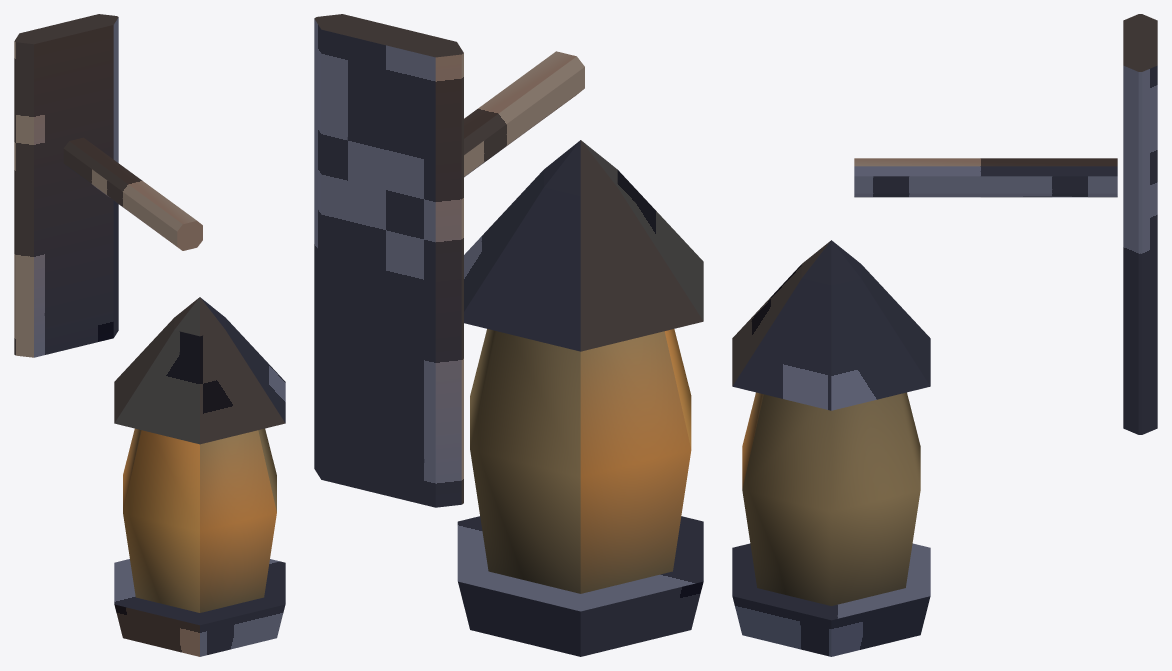
File: wprop.lantern__wall.glb
3 renders of one model, left to right at view 1: azimuth 30°, elevation 25°; view 2: azimuth 150°, elevation 25°; view 3: azimuth 270°, elevation 25°, orthographic. The views are drawn at different scales.
Parts seen in each view (by area): view 1: kit_plate, kit_glass, kit_cap, kit_base, kit_bracket; view 2: kit_plate, kit_glass, kit_cap, kit_base, kit_bracket; view 3: kit_glass, kit_cap, kit_plate, kit_base, kit_bracket.
Part boxes in pixels (left/top/right/bottom): kit_plate: left=14, top=14, right=118, bottom=357; kit_glass: left=123, top=428, right=276, bottom=612; kit_cap: left=114, top=297, right=285, bottom=444; kit_base: left=114, top=559, right=285, bottom=656; kit_bracket: left=63, top=137, right=202, bottom=250; kit_plate: left=314, top=14, right=463, bottom=507; kit_glass: left=470, top=329, right=691, bottom=593; kit_cap: left=464, top=140, right=703, bottom=351; kit_base: left=457, top=516, right=703, bottom=656; kit_bracket: left=464, top=51, right=584, bottom=177; kit_glass: left=742, top=392, right=920, bottom=605; kit_cap: left=732, top=240, right=930, bottom=410; kit_plate: left=1123, top=14, right=1157, bottom=434; kit_base: left=732, top=543, right=930, bottom=656; kit_bracket: left=854, top=158, right=1117, bottom=197.
Size of the model in its own units: 0.2 by 0.55 by 0.3716.
3 materials, 2 textured.
